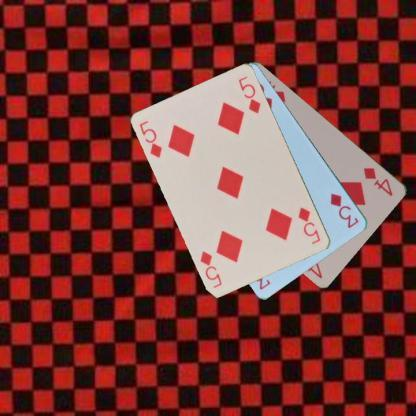3d: (327, 190, 360, 230)
4d: (361, 164, 395, 198)
5d: (137, 118, 164, 160), (296, 204, 322, 247)
